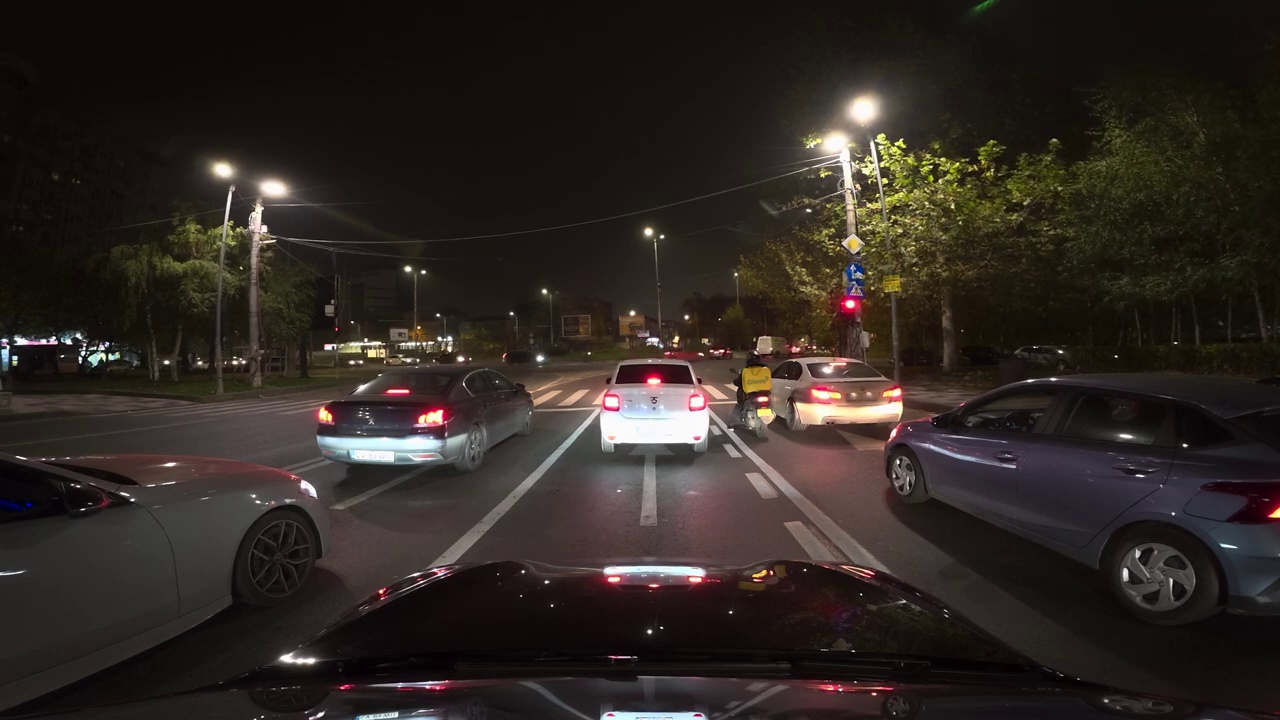acesa: (848, 96, 878, 123), (209, 158, 237, 184), (260, 177, 290, 201), (639, 223, 660, 246)
